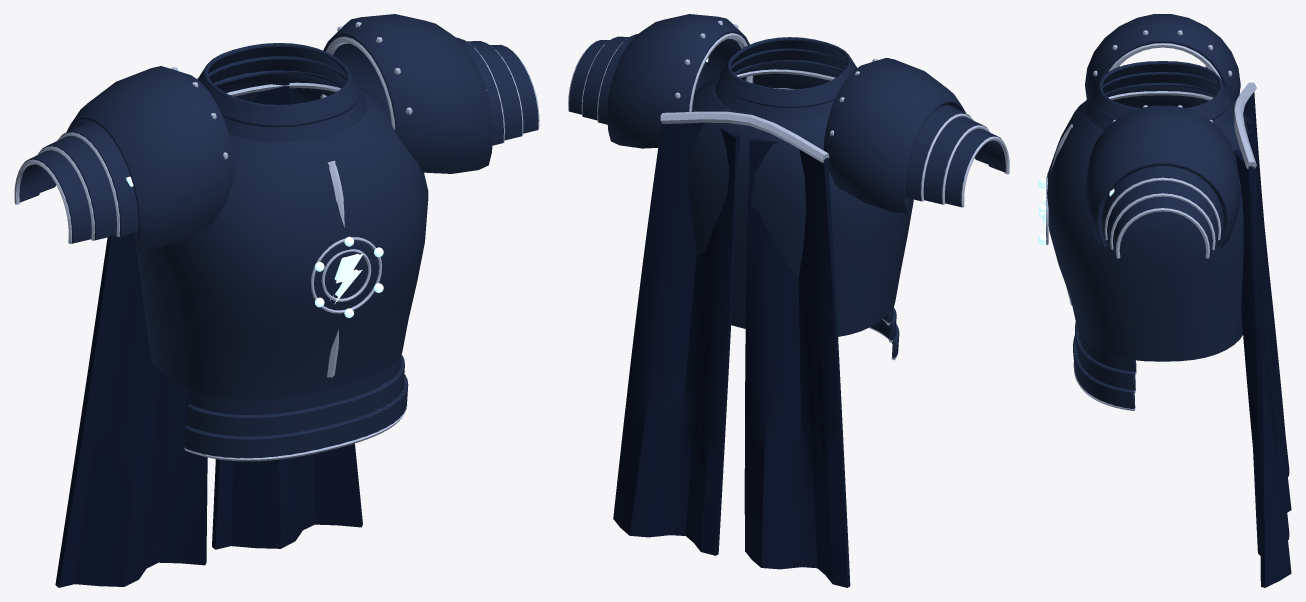
The model's file is asc_orbit_sentinel_armor.glb.
The picture shows the model from 3 angles, left to right: view 1: azimuth 30°, elevation 25°; view 2: azimuth 150°, elevation 25°; view 3: azimuth 270°, elevation 25°; orthographic projection. The views are drawn at different scales.
Parts seen in each view (by area): view 1: asc_orbit_sentinel_armor, AT_upper_arm_R, AT_upper_arm_L; view 2: asc_orbit_sentinel_armor, AT_upper_arm_R, AT_upper_arm_L; view 3: asc_orbit_sentinel_armor, AT_upper_arm_L, AT_upper_arm_R.
Boxes of the visible parts, x1,y1,x2,y2 form: asc_orbit_sentinel_armor: [55, 43, 486, 587]; AT_upper_arm_R: [14, 66, 235, 251]; AT_upper_arm_L: [320, 14, 539, 173]; asc_orbit_sentinel_armor: [613, 37, 913, 587]; AT_upper_arm_R: [823, 57, 1009, 213]; AT_upper_arm_L: [568, 14, 753, 148]; asc_orbit_sentinel_armor: [1038, 61, 1291, 587]; AT_upper_arm_L: [1085, 105, 1240, 258]; AT_upper_arm_R: [1085, 14, 1240, 101].
Bounding box in the file's own units: 0.9688 × 1.1 × 0.5428.
